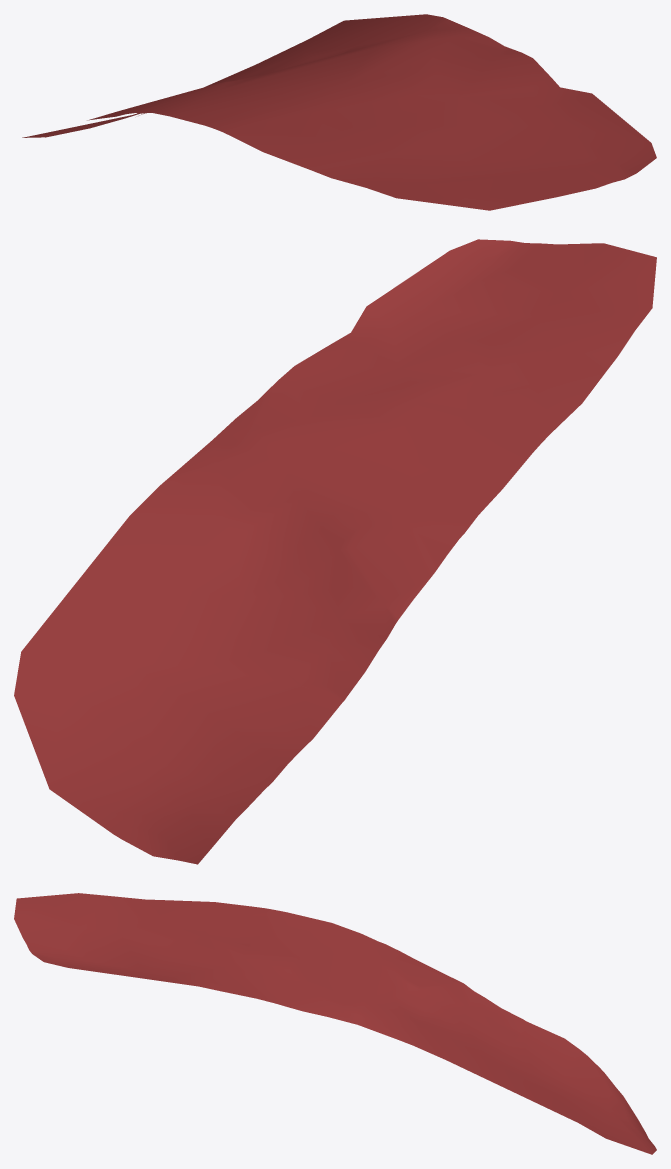
The model's file is transverse-part-of-trapezius-muscle-or.glb.
The picture shows the model from 3 angles, top to bottom: view 1: azimuth 30°, elevation 25°; view 2: azimuth 150°, elevation 25°; view 3: azimuth 270°, elevation 25°; orthographic projection. The views are drawn at different scales.
Visible parts, largest first — view 1: Transverse part of trapezius muscle.or; view 2: Transverse part of trapezius muscle.or; view 3: Transverse part of trapezius muscle.or.
Boxes of the visible parts, box(x1,y1,x2,y2) form: Transverse part of trapezius muscle.or: box(22, 14, 656, 210); Transverse part of trapezius muscle.or: box(14, 239, 656, 864); Transverse part of trapezius muscle.or: box(14, 893, 656, 1154).
Bounding box in the file's own units: 0.0149 × 0.0137 × 0.0355.
